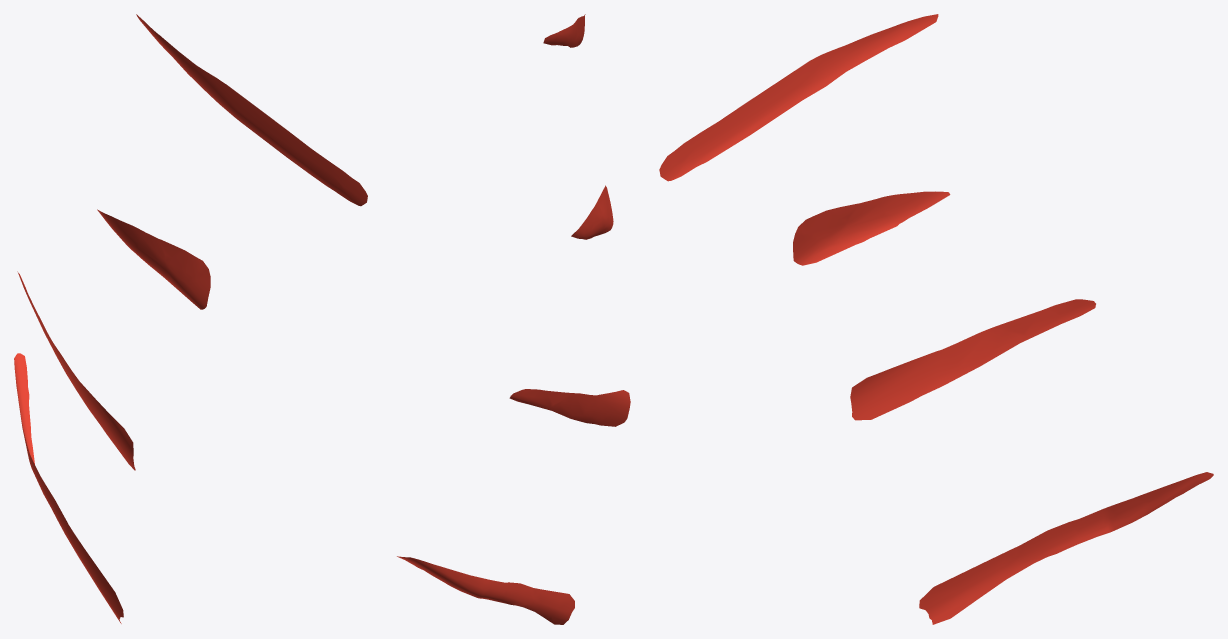
File: External_abdominal_oblique-Thoracic_insertions.r_Generated_Mesh.glb
The picture shows the model from 3 angles, left to right: view 1: azimuth 30°, elevation 25°; view 2: azimuth 150°, elevation 25°; view 3: azimuth 270°, elevation 25°; orthographic projection. The views are drawn at different scales.
Parts seen in each view (by area): view 1: External_abdominal_oblique-Thoracic_insertions.r_Generated_M; view 2: External_abdominal_oblique-Thoracic_insertions.r_Generated_M; view 3: External_abdominal_oblique-Thoracic_insertions.r_Generated_M.
Boxes of the visible parts, left/top/right/bottom form: External_abdominal_oblique-Thoracic_insertions.r_Generated_M: left=14, top=14, right=367, bottom=623; External_abdominal_oblique-Thoracic_insertions.r_Generated_M: left=397, top=14, right=630, bottom=624; External_abdominal_oblique-Thoracic_insertions.r_Generated_M: left=659, top=14, right=1213, bottom=624.
Size of the model in its own units: 0.0312 by 0.1185 by 0.0961.
